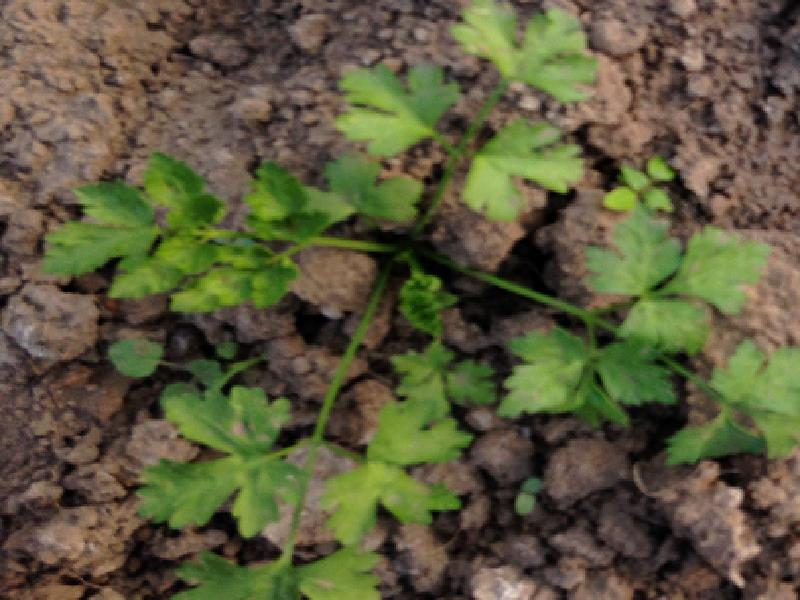radish: (1, 32, 741, 561)
